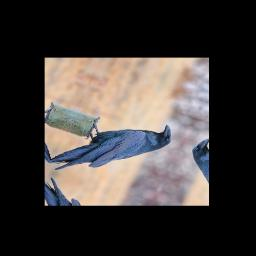Crow: (47, 97, 179, 199)
